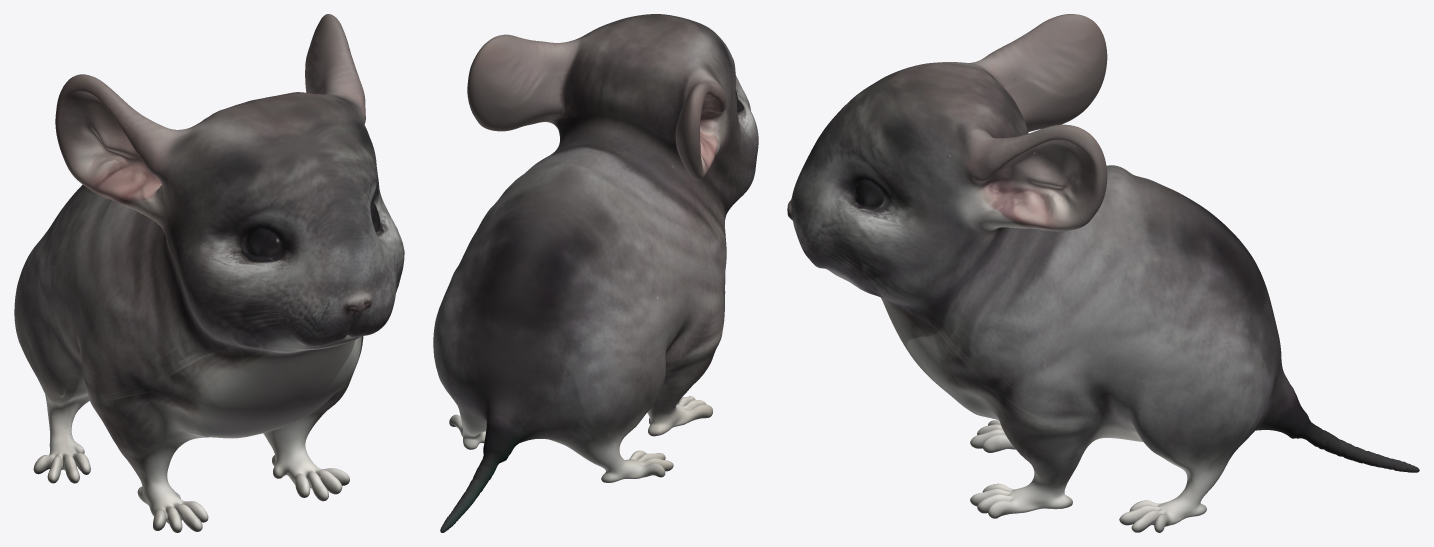
Rendered from Chinchilla.glb.
3 views of the same model, side by side, from view 1: azimuth 30°, elevation 25°; view 2: azimuth 150°, elevation 25°; view 3: azimuth 270°, elevation 25° (orthographic). The views are drawn at different scales.
Parts seen in each view (by area): view 1: mesh_0; view 2: mesh_0; view 3: mesh_0.
Part boxes in pixels (box(x1,y1,x2,y2)): mesh_0: box(14, 14, 404, 532); mesh_0: box(433, 14, 758, 532); mesh_0: box(787, 14, 1419, 532).
Bounding box in the file's own units: 0.9046 × 1.35 × 1.9.
Materials: 1 (1 with a texture image).
